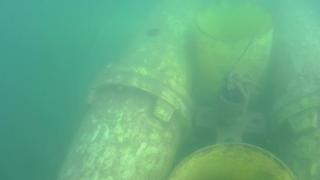pipe: (55, 1, 201, 179), (272, 1, 320, 179), (194, 1, 274, 106), (166, 140, 297, 180)
